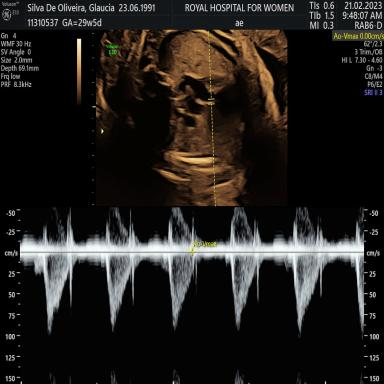Ultrasound-Waves: (30, 207, 362, 384)
